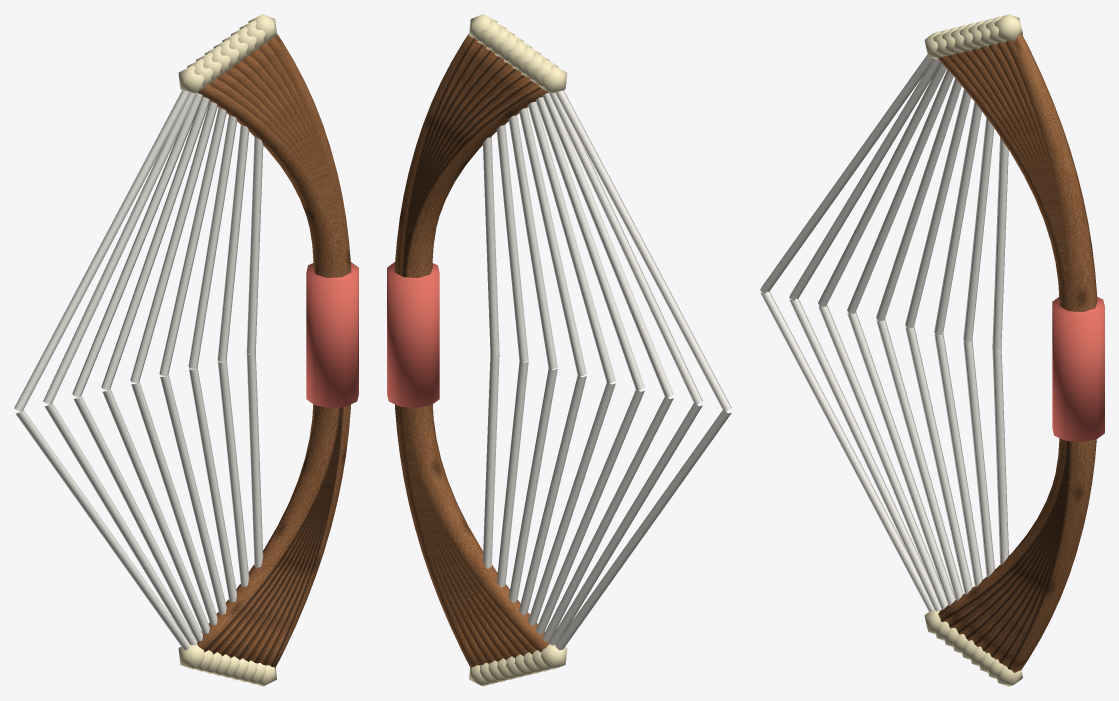
Rendered from bow.glb.
3 renders of one model, left to right at view 1: azimuth 30°, elevation 25°; view 2: azimuth 150°, elevation 25°; view 3: azimuth 330°, elevation 25°, orthographic.
Parts seen in each view (by area): view 1: bow0.handle, bow8.string, bow8.limb-1, bow7.string, bow6.string, bow5.string, bow4.string, bow3.string, bow2.string, bow8.limb1, bow1.string, bow0.string (+17 smaller); view 2: bow0.handle, bow8.string, bow8.limb-1, bow7.string, bow6.string, bow5.string, bow4.string, bow3.string, bow2.string, bow8.limb1, bow1.string, bow0.string (+17 smaller); view 3: bow0.handle, bow0.limb1, bow8.string, bow7.string, bow6.string, bow5.string, bow4.string, bow0.limb-1, bow3.string, bow2.string, bow1.string, bow0.string (+17 smaller).
Part boxes in pixels (bbox=[...]): bow0.handle: bbox=[306, 262, 358, 407]; bow8.string: bbox=[14, 90, 190, 650]; bow8.limb-1: bbox=[197, 404, 341, 652]; bow7.string: bbox=[43, 92, 197, 645]; bow6.string: bbox=[72, 93, 202, 641]; bow5.string: bbox=[101, 97, 209, 634]; bow4.string: bbox=[130, 101, 217, 625]; bow3.string: bbox=[159, 108, 226, 615]; bow2.string: bbox=[188, 115, 237, 602]; bow8.limb1: bbox=[197, 84, 341, 277]; bow1.string: bbox=[217, 125, 249, 587]; bow0.string: bbox=[246, 137, 263, 568]; bow0.handle: bbox=[387, 262, 439, 407]; bow8.string: bbox=[555, 90, 731, 650]; bow8.limb-1: bbox=[404, 404, 549, 652]; bow7.string: bbox=[548, 92, 702, 645]; bow6.string: bbox=[542, 93, 673, 641]; bow5.string: bbox=[535, 97, 644, 634]; bow4.string: bbox=[528, 101, 615, 625]; bow3.string: bbox=[519, 107, 586, 615]; bow2.string: bbox=[508, 115, 557, 602]; bow8.limb1: bbox=[404, 84, 548, 277]; bow1.string: bbox=[496, 124, 528, 587]; bow0.string: bbox=[483, 137, 499, 568]; bow0.handle: bbox=[1052, 297, 1104, 442]; bow0.limb1: bbox=[1006, 34, 1097, 311]; bow8.string: bbox=[760, 54, 933, 611]; bow7.string: bbox=[789, 58, 941, 611]; bow6.string: bbox=[818, 62, 947, 609]; bow5.string: bbox=[847, 69, 955, 605]; bow4.string: bbox=[876, 78, 963, 600]; bow0.limb-1: bbox=[1005, 439, 1096, 672]; bow3.string: bbox=[905, 89, 972, 594]; bow2.string: bbox=[934, 101, 982, 586]; bow1.string: bbox=[963, 117, 994, 577]; bow0.string: bbox=[992, 137, 1008, 564].
Bounding box in the file's own units: 1.46 × 2.76 × 0.2.
Materials: 4 (1 with a texture image).
